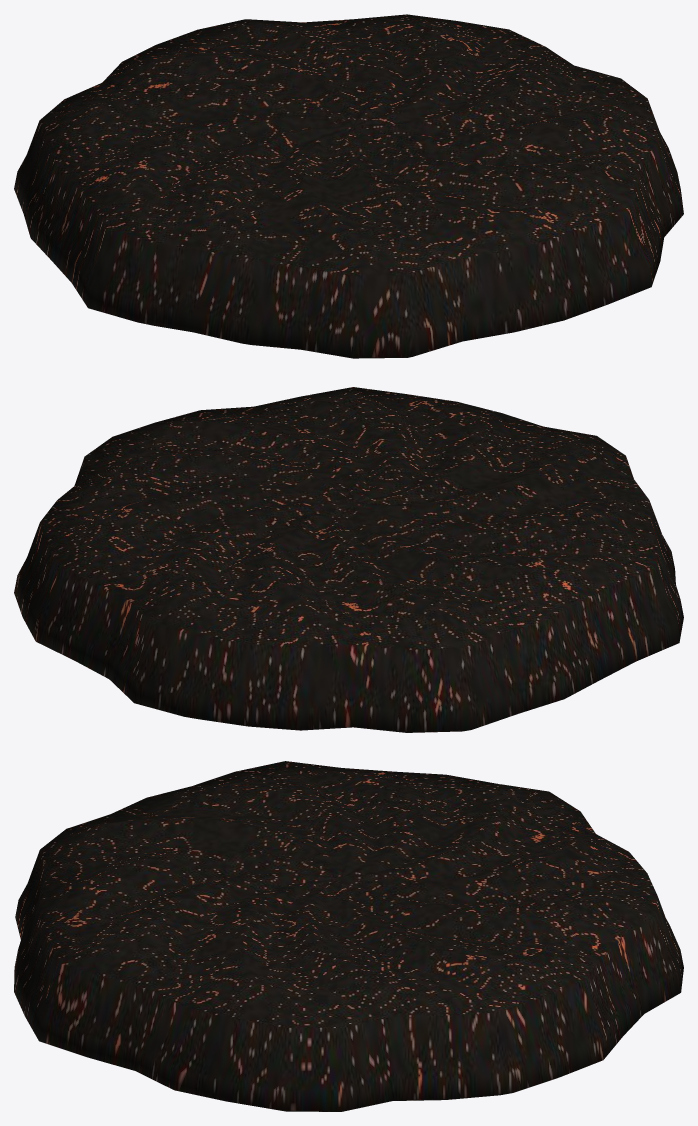
The model's file is kr_patty_burnt.glb.
3 renders of one model, top to bottom at view 1: azimuth 30°, elevation 25°; view 2: azimuth 150°, elevation 25°; view 3: azimuth 270°, elevation 25°, orthographic.
Parts seen in each view (by area): view 1: kr_patty_burnt_f_ground_burnt; view 2: kr_patty_burnt_f_ground_burnt; view 3: kr_patty_burnt_f_ground_burnt.
Boxes of the visible parts, x1,y1,x2,y2 form: kr_patty_burnt_f_ground_burnt: (14, 14, 683, 358); kr_patty_burnt_f_ground_burnt: (14, 387, 683, 732); kr_patty_burnt_f_ground_burnt: (14, 761, 683, 1111).
Bounding box in the file's own units: 0.2088 × 0.0398 × 0.2042.
Materials: 1 (1 with a texture image).
